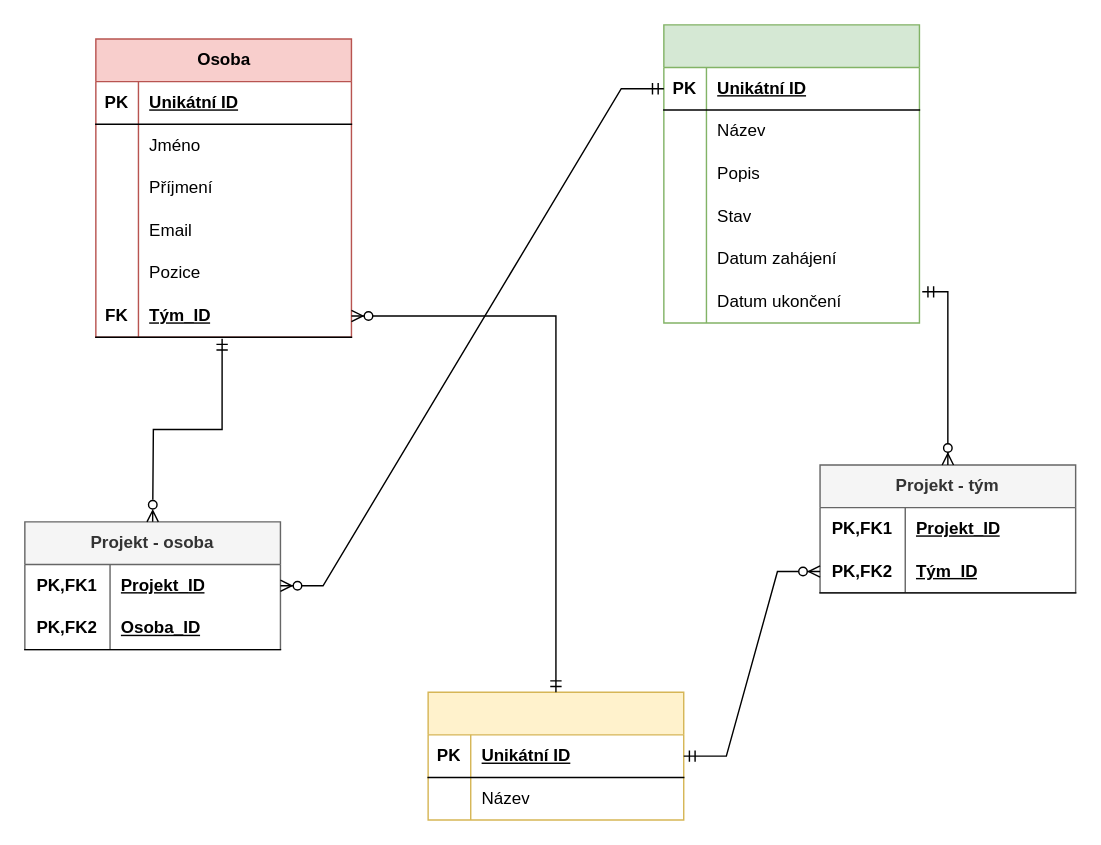
Some shapes in this 1101 by 845 pixel diagram are drawn without their labels. Here are the shapes that lost their labels. From the top down, the box of each, then its label:
(662, 23, 919, 323): Projekt
(427, 691, 684, 820): Tým
